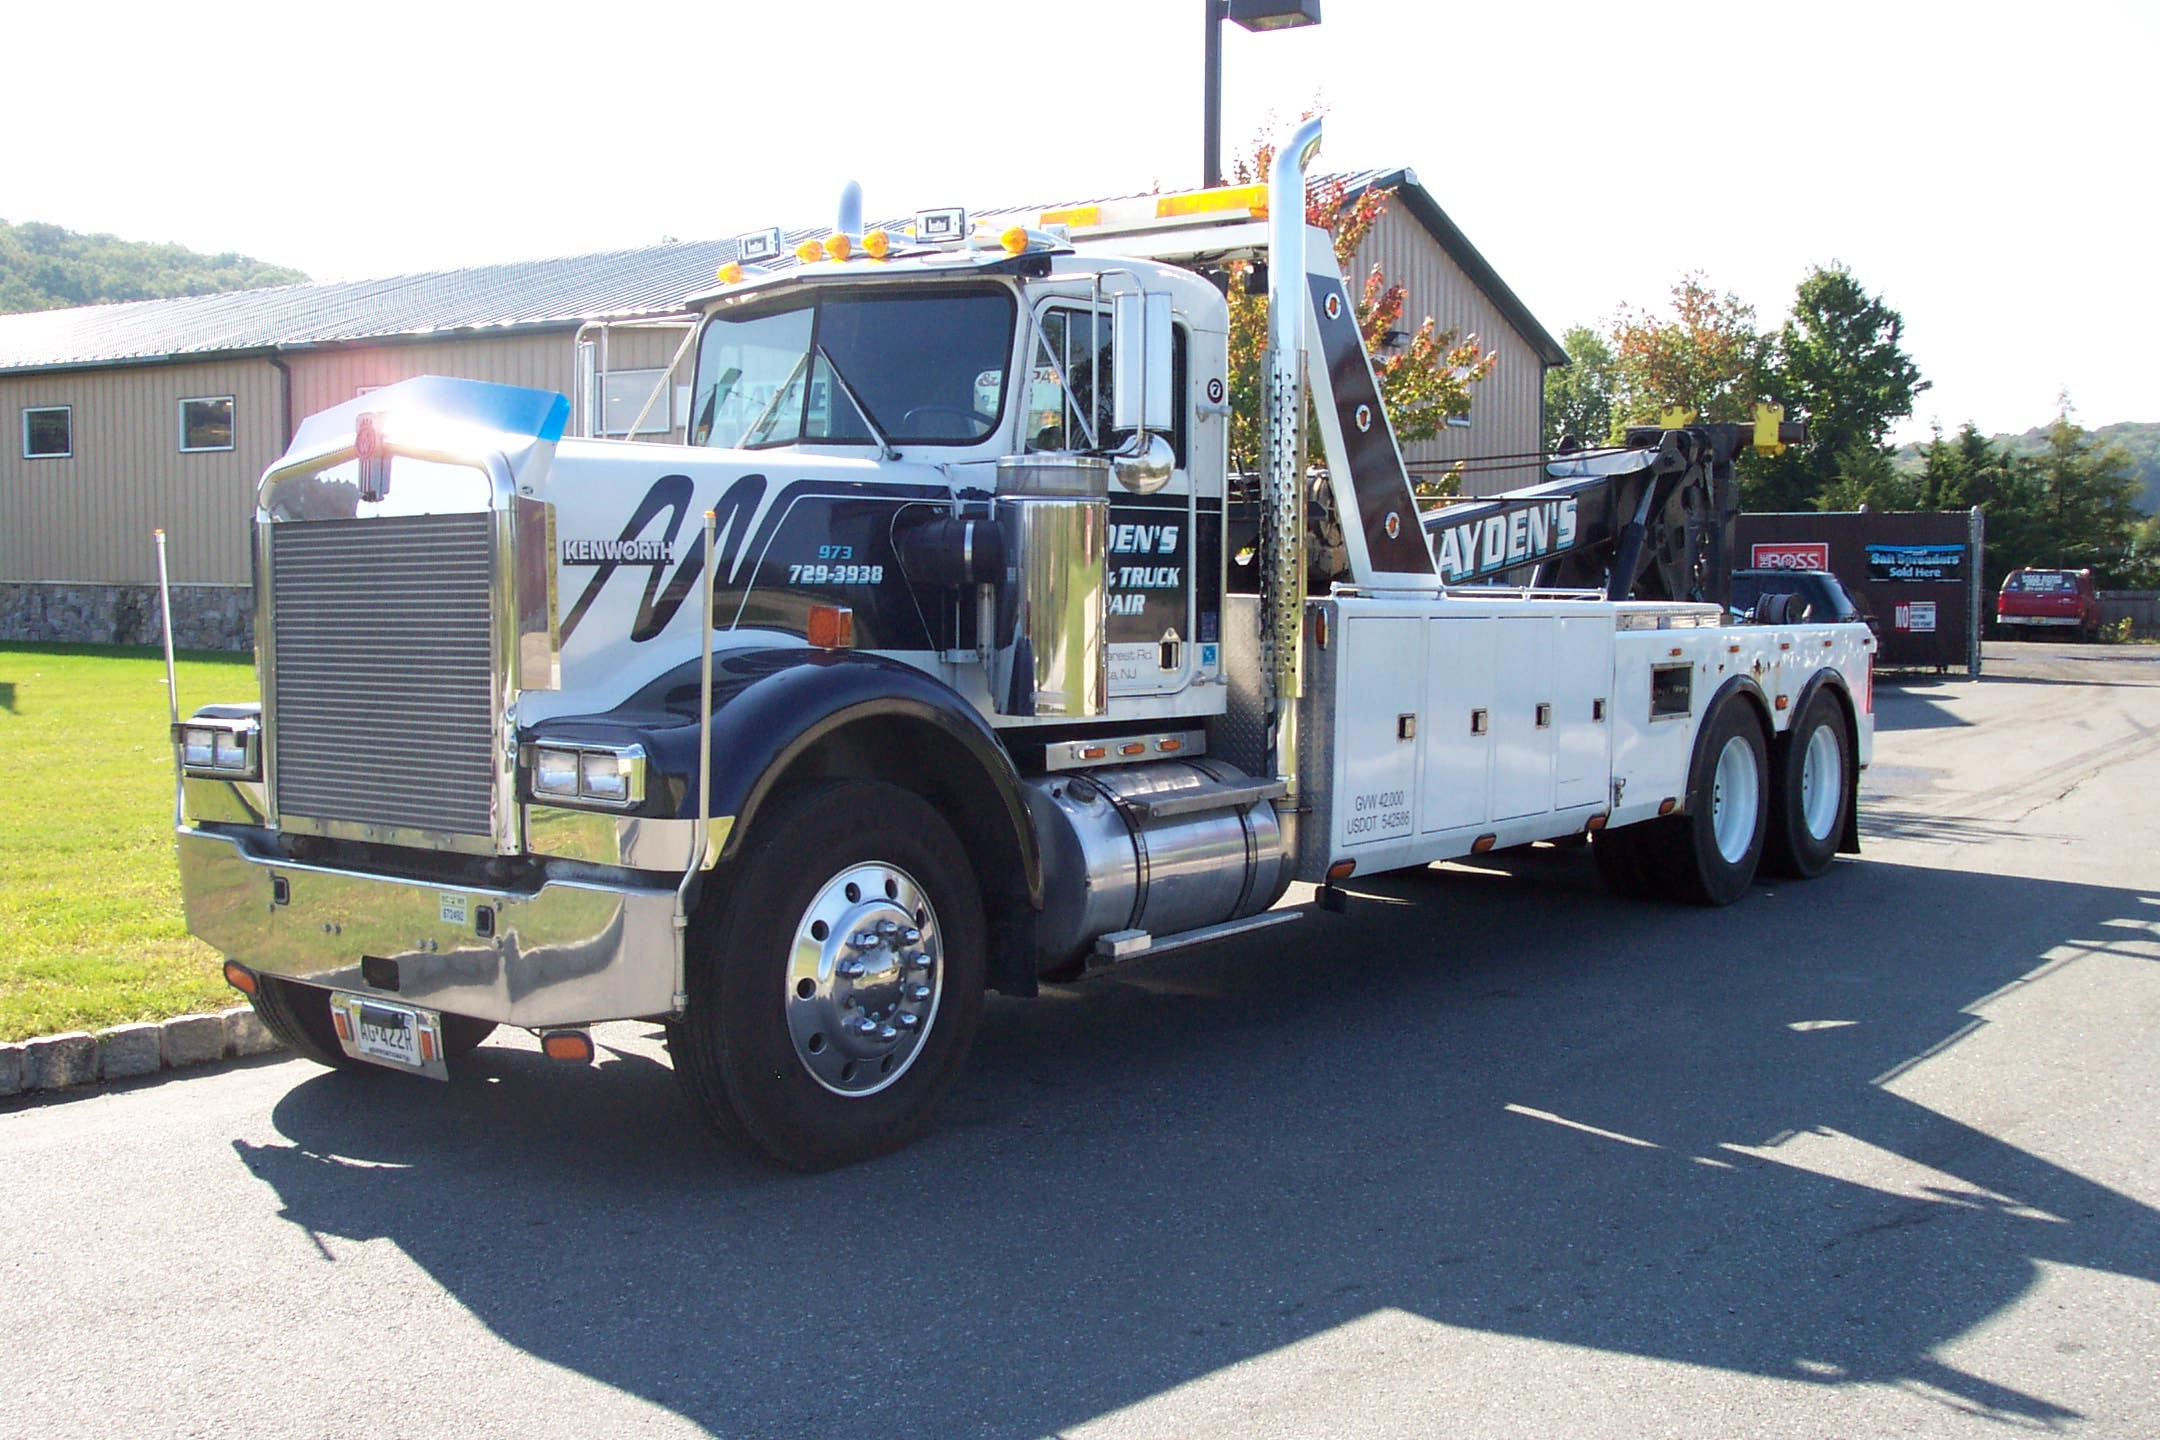heavy truck: (238, 199, 1908, 1199)
